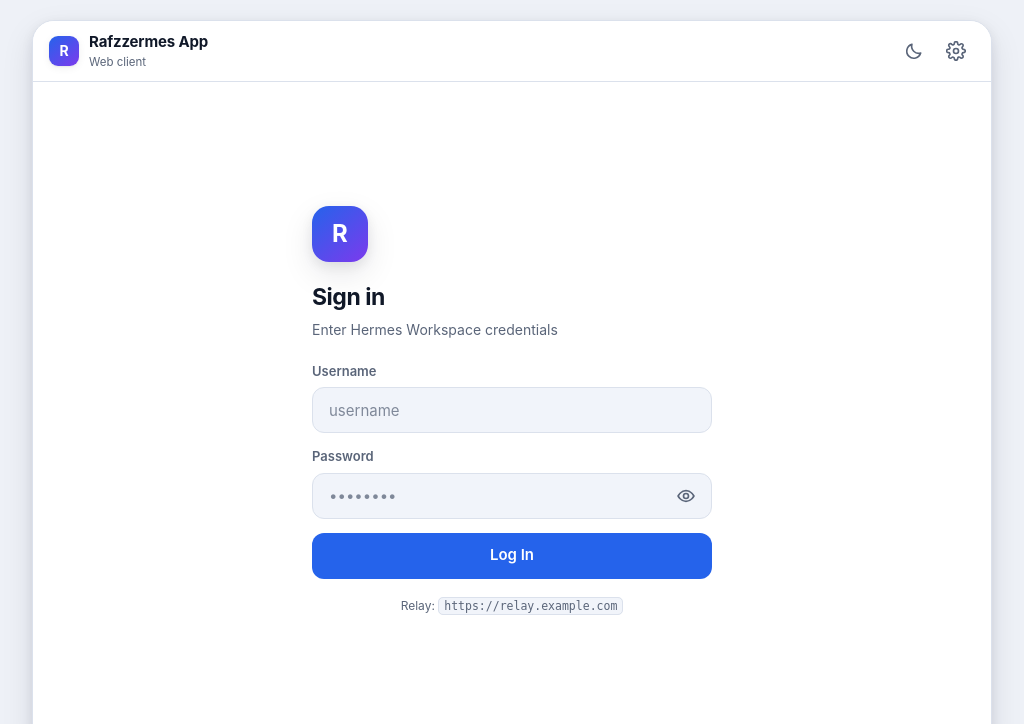
Test case: App (rendered in jsdom) › opens the settings sheet and reports the resolved relay endpoint
What coordinates should you click on to do the following:
click the button named "Settings"
I would click on:
 (956, 51)
Its box is x1=937 y1=32 x2=975 y2=70.
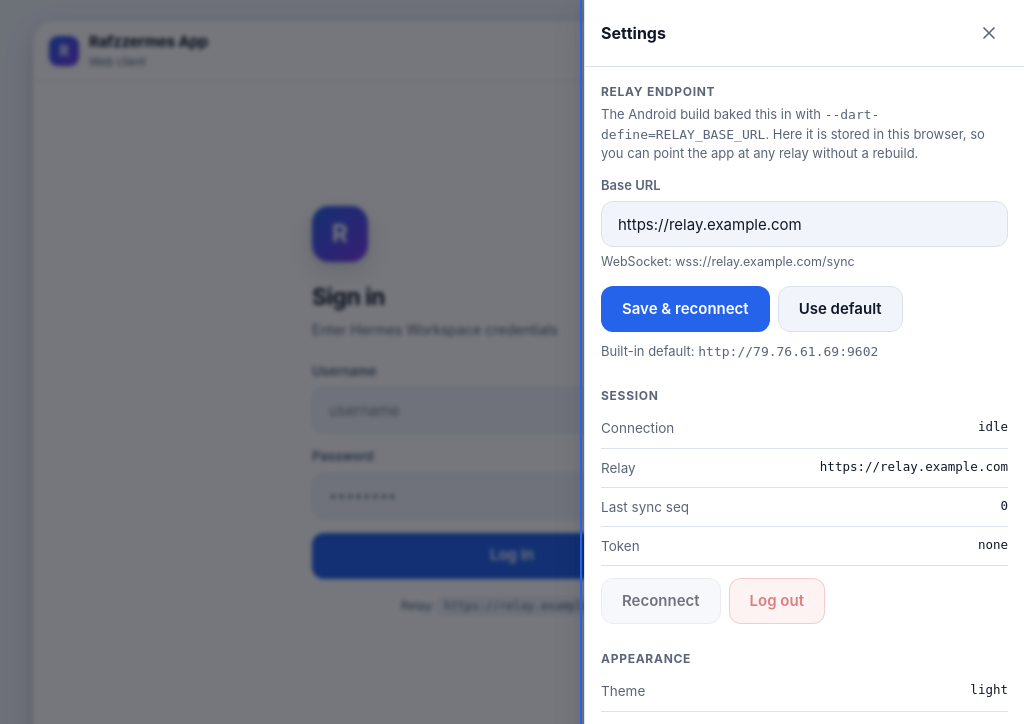
Expected: the heading "Relay endpoint" is shown, x1=601 y1=84 x2=715 y2=99
Expected: the field labelled "Base URL" is shown, x1=616 y1=202 x2=1001 y2=246
